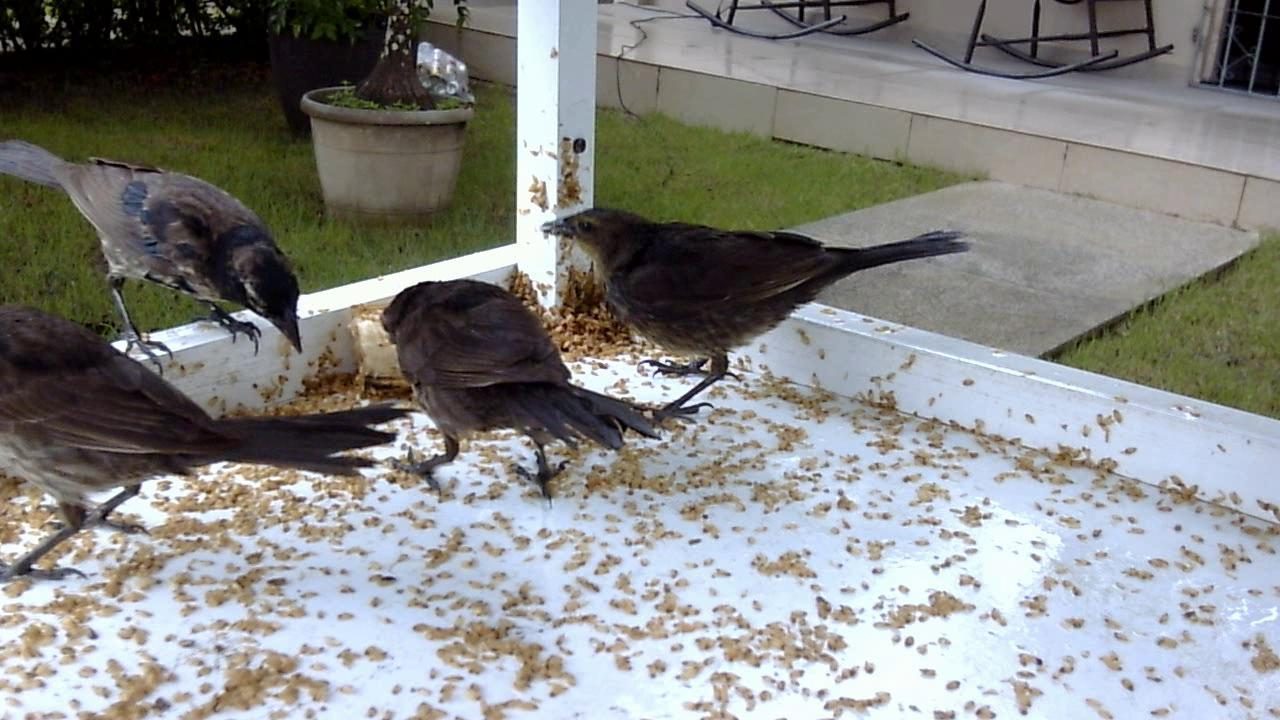chupim: (1, 294, 433, 587), (526, 173, 977, 453), (4, 141, 312, 378), (370, 259, 668, 501)
